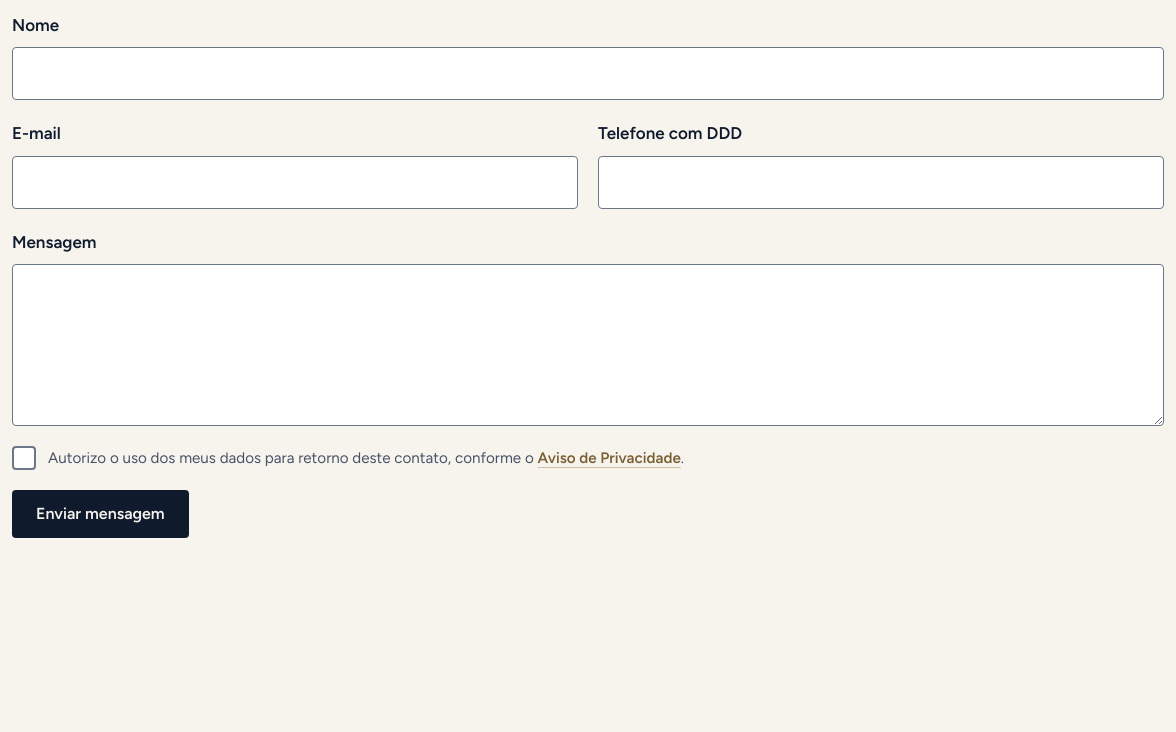
Test: ContactForm › recusa e-mail inválido
Type "Pessoa de Teste" into the field labelled "Nome" at (588, 74), box [12,47,1164,100]
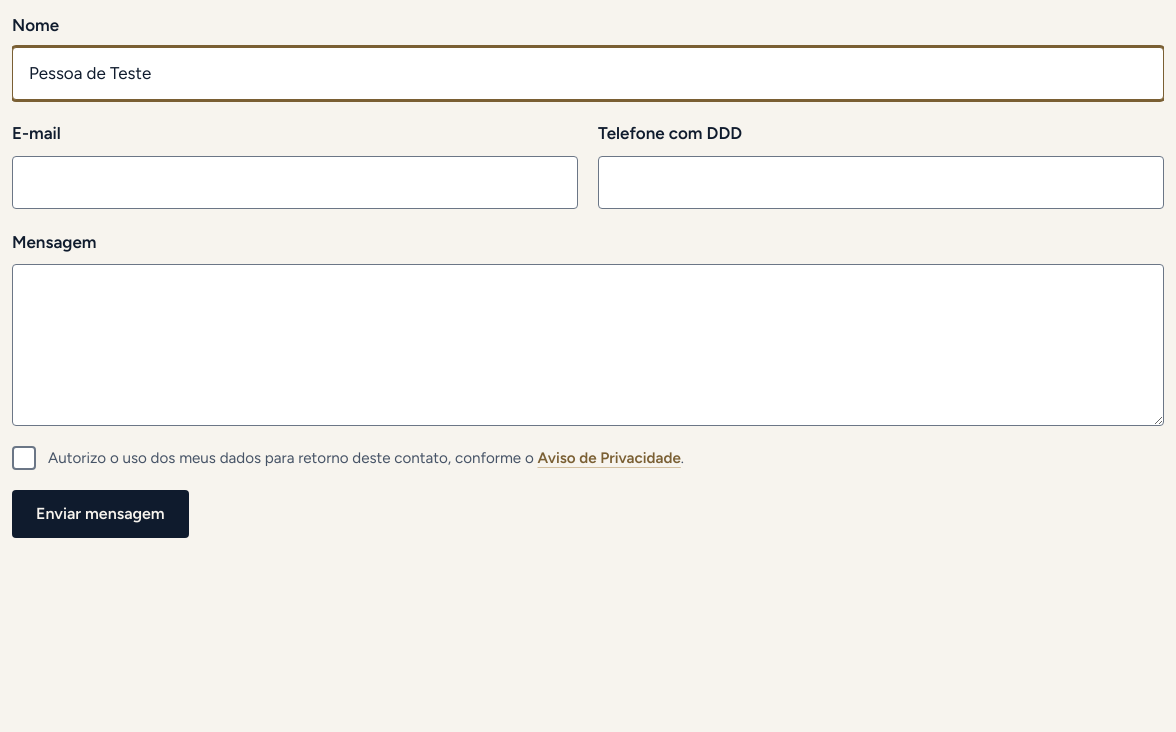
Type "pessoa@" into the field labelled "E-mail" at (295, 182), box [12,156,578,209]
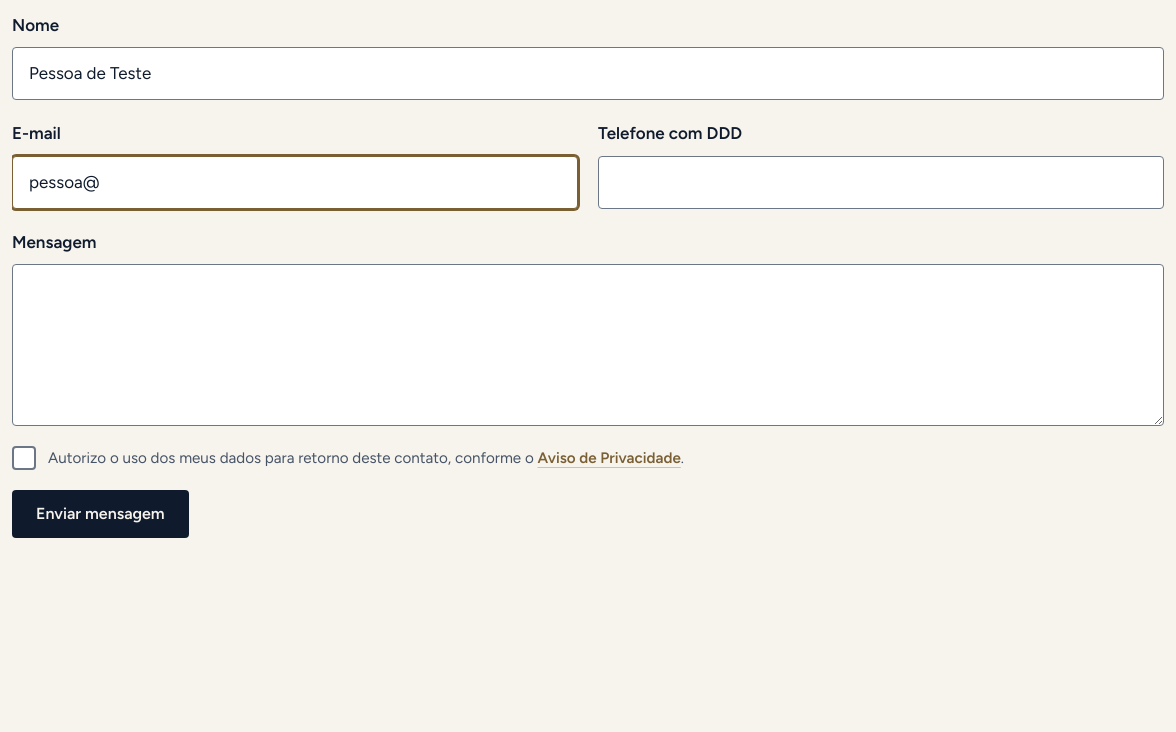
Type "(00) 90000-0000" into the field labelled "Telefone com DDD" at (881, 182), box [598,156,1164,209]
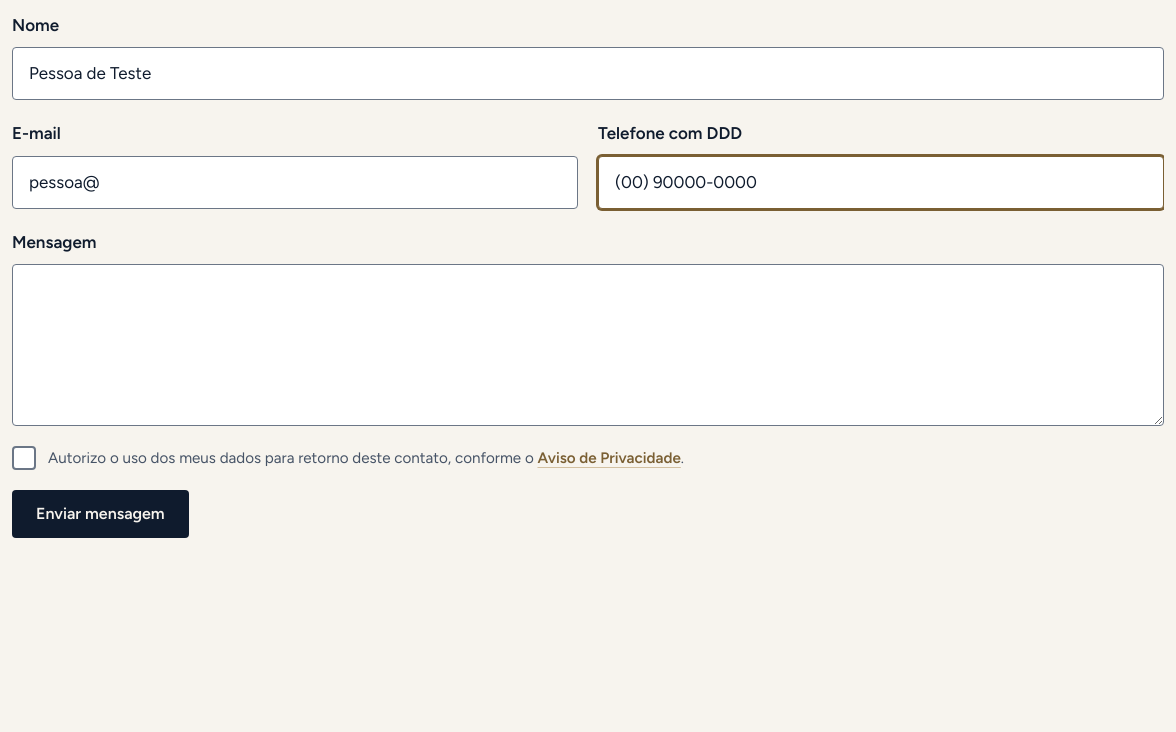
Type "Gostaria de agendar uma consulta." into the text box labelled "Mensagem" at (588, 345), box [12,264,1164,426]
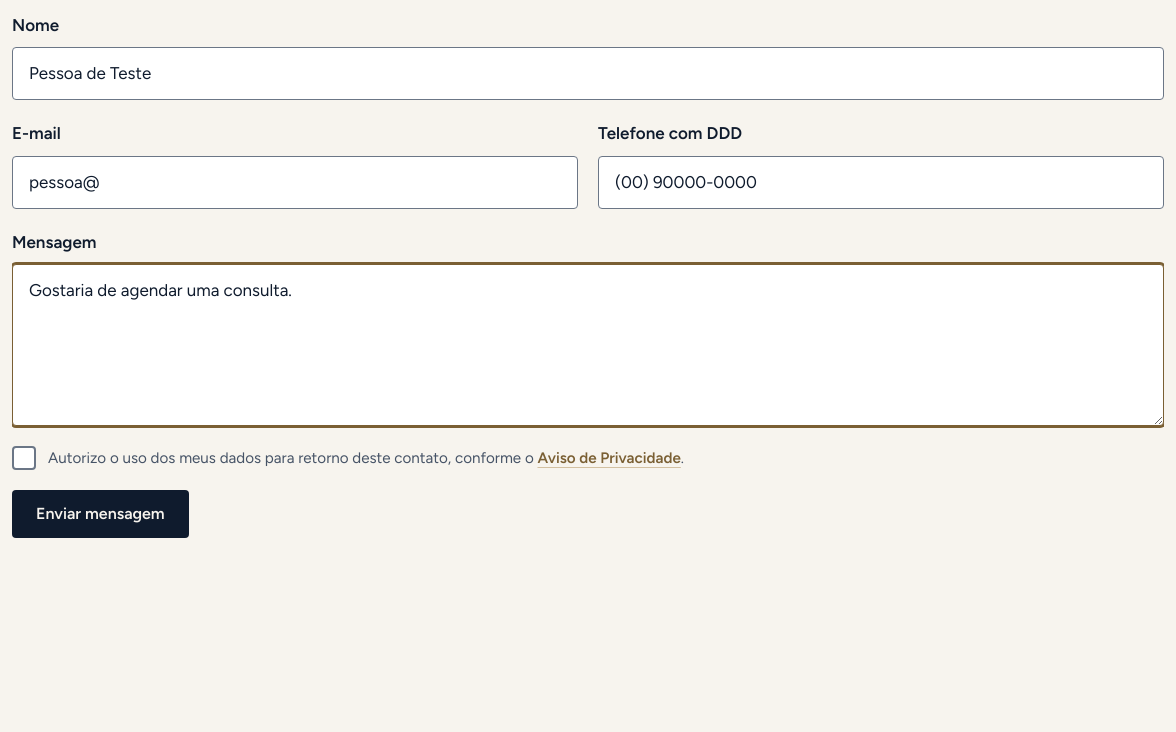
Click the checkbox at (24, 458), box [12,446,36,470]
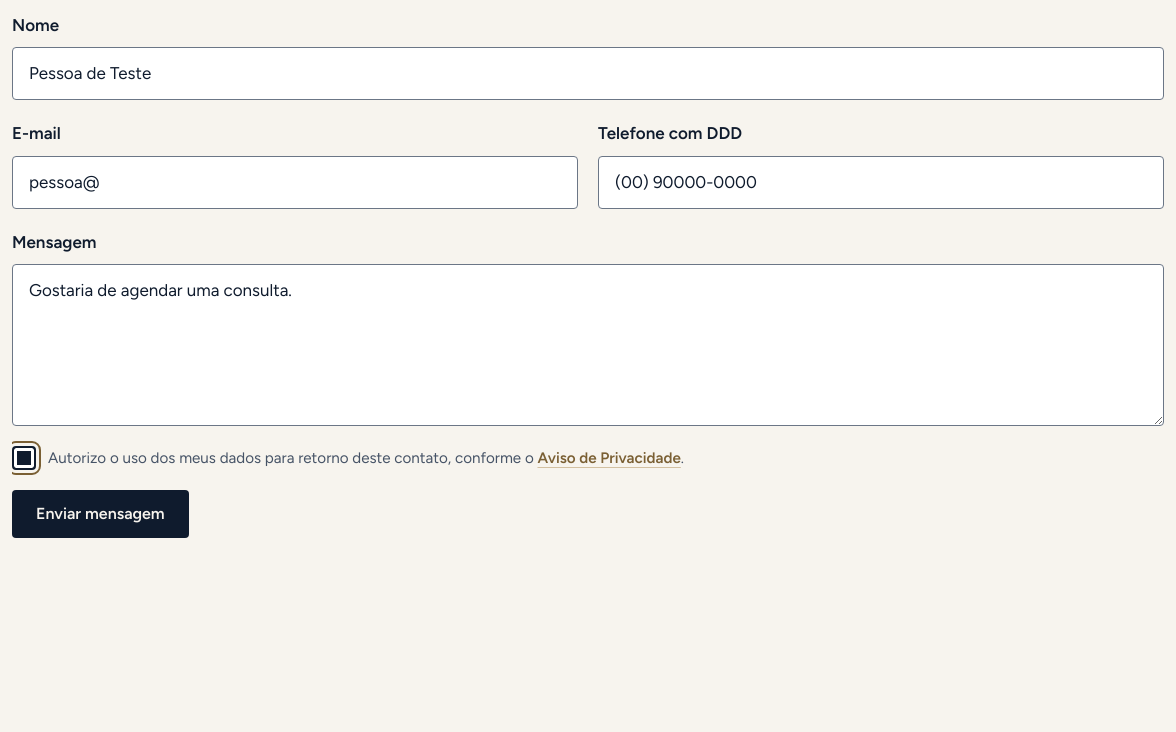
Click the button "Enviar mensagem" at (100, 514), box [12,490,189,538]
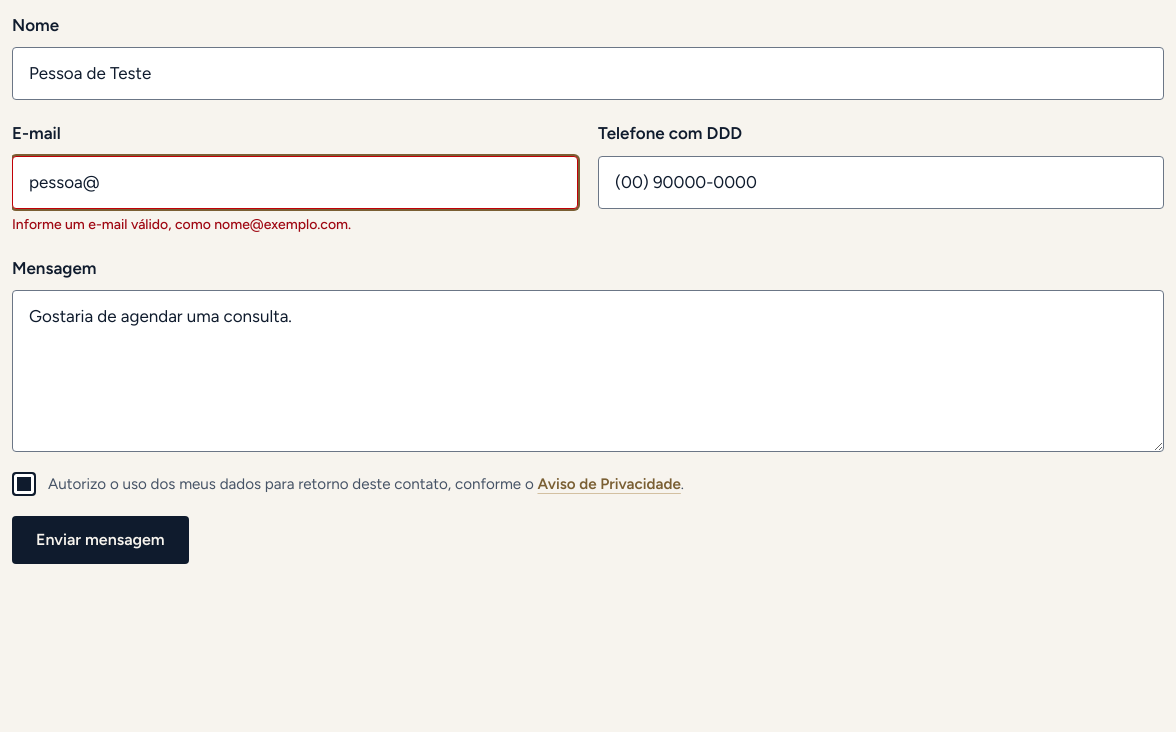
Expected: the text "Informe um e-mail válido, como nome@exemplo.com." is shown, [12,216,351,233]
